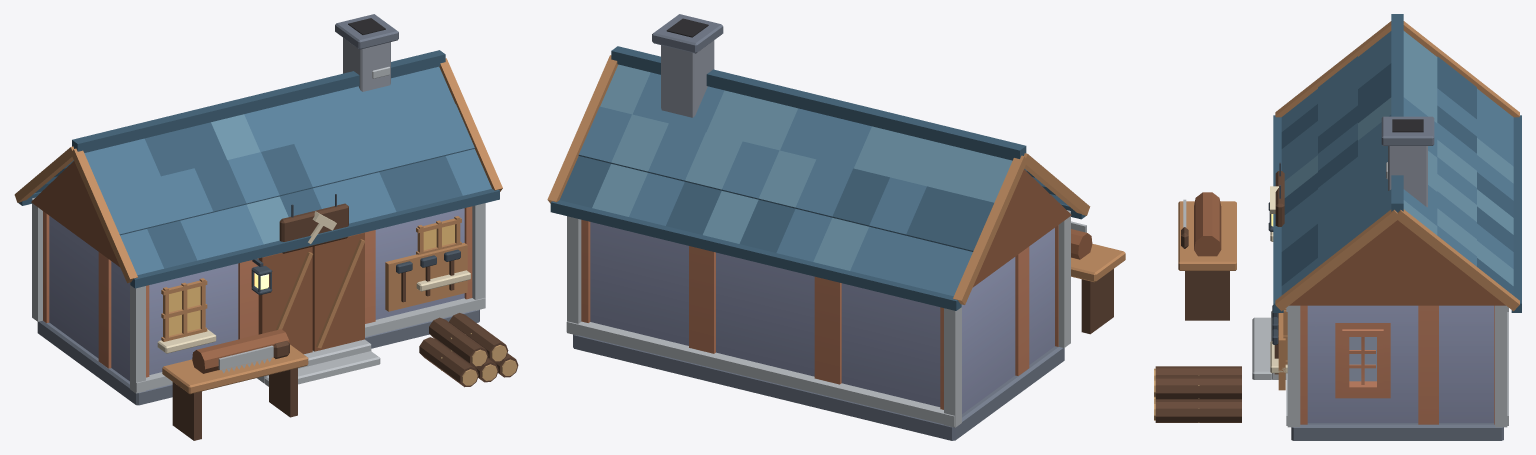
The model's file is workshop.glb.
3 renders of one model, left to right at view 1: azimuth 30°, elevation 25°; view 2: azimuth 150°, elevation 25°; view 3: azimuth 270°, elevation 25°, orthographic. The views are drawn at different scales.
Parts seen in each view (by area): view 1: workshop_建筑共用调色板.010, workshop_fantasy-town-kit 调色板; view 2: workshop_建筑共用调色板.010, workshop_fantasy-town-kit 调色板; view 3: workshop_建筑共用调色板.010, workshop_fantasy-town-kit 调色板.
Boxes of the visible parts, x1=… form: workshop_建筑共用调色板.010: x1=14, y1=14, x2=518, y2=440; workshop_fantasy-town-kit 调色板: x1=43, y1=206, x2=472, y2=381; workshop_建筑共用调色板.010: x1=547, y1=14, x2=1125, y2=440; workshop_fantasy-town-kit 调色板: x1=581, y1=219, x2=1058, y2=413; workshop_建筑共用调色板.010: x1=1154, y1=14, x2=1521, y2=440; workshop_fantasy-town-kit 调色板: x1=1300, y1=305, x2=1494, y2=424.
Size of the model in its own units: 6.59 by 4.56 by 5.33.
3 materials, 2 textured.
